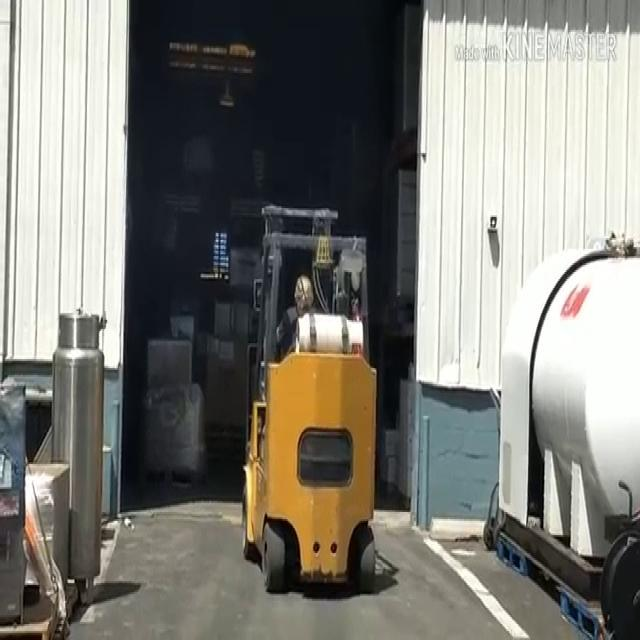Chariot elevateur: (239, 189, 385, 599)
